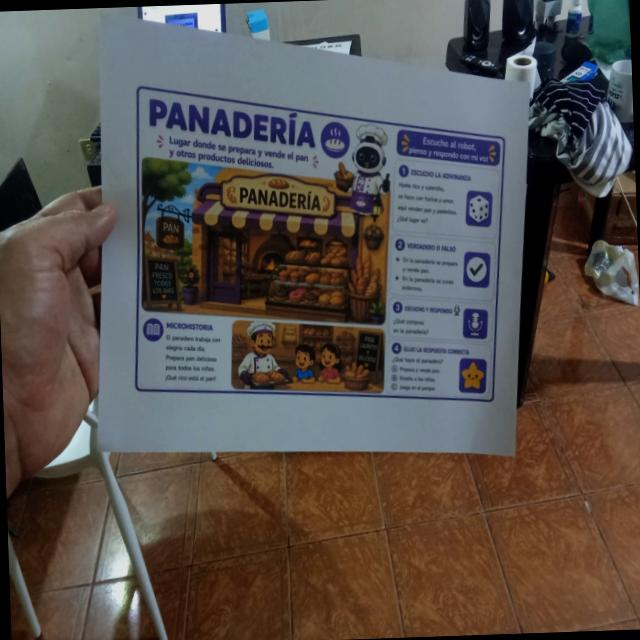panaderia: (120, 67, 518, 420)
